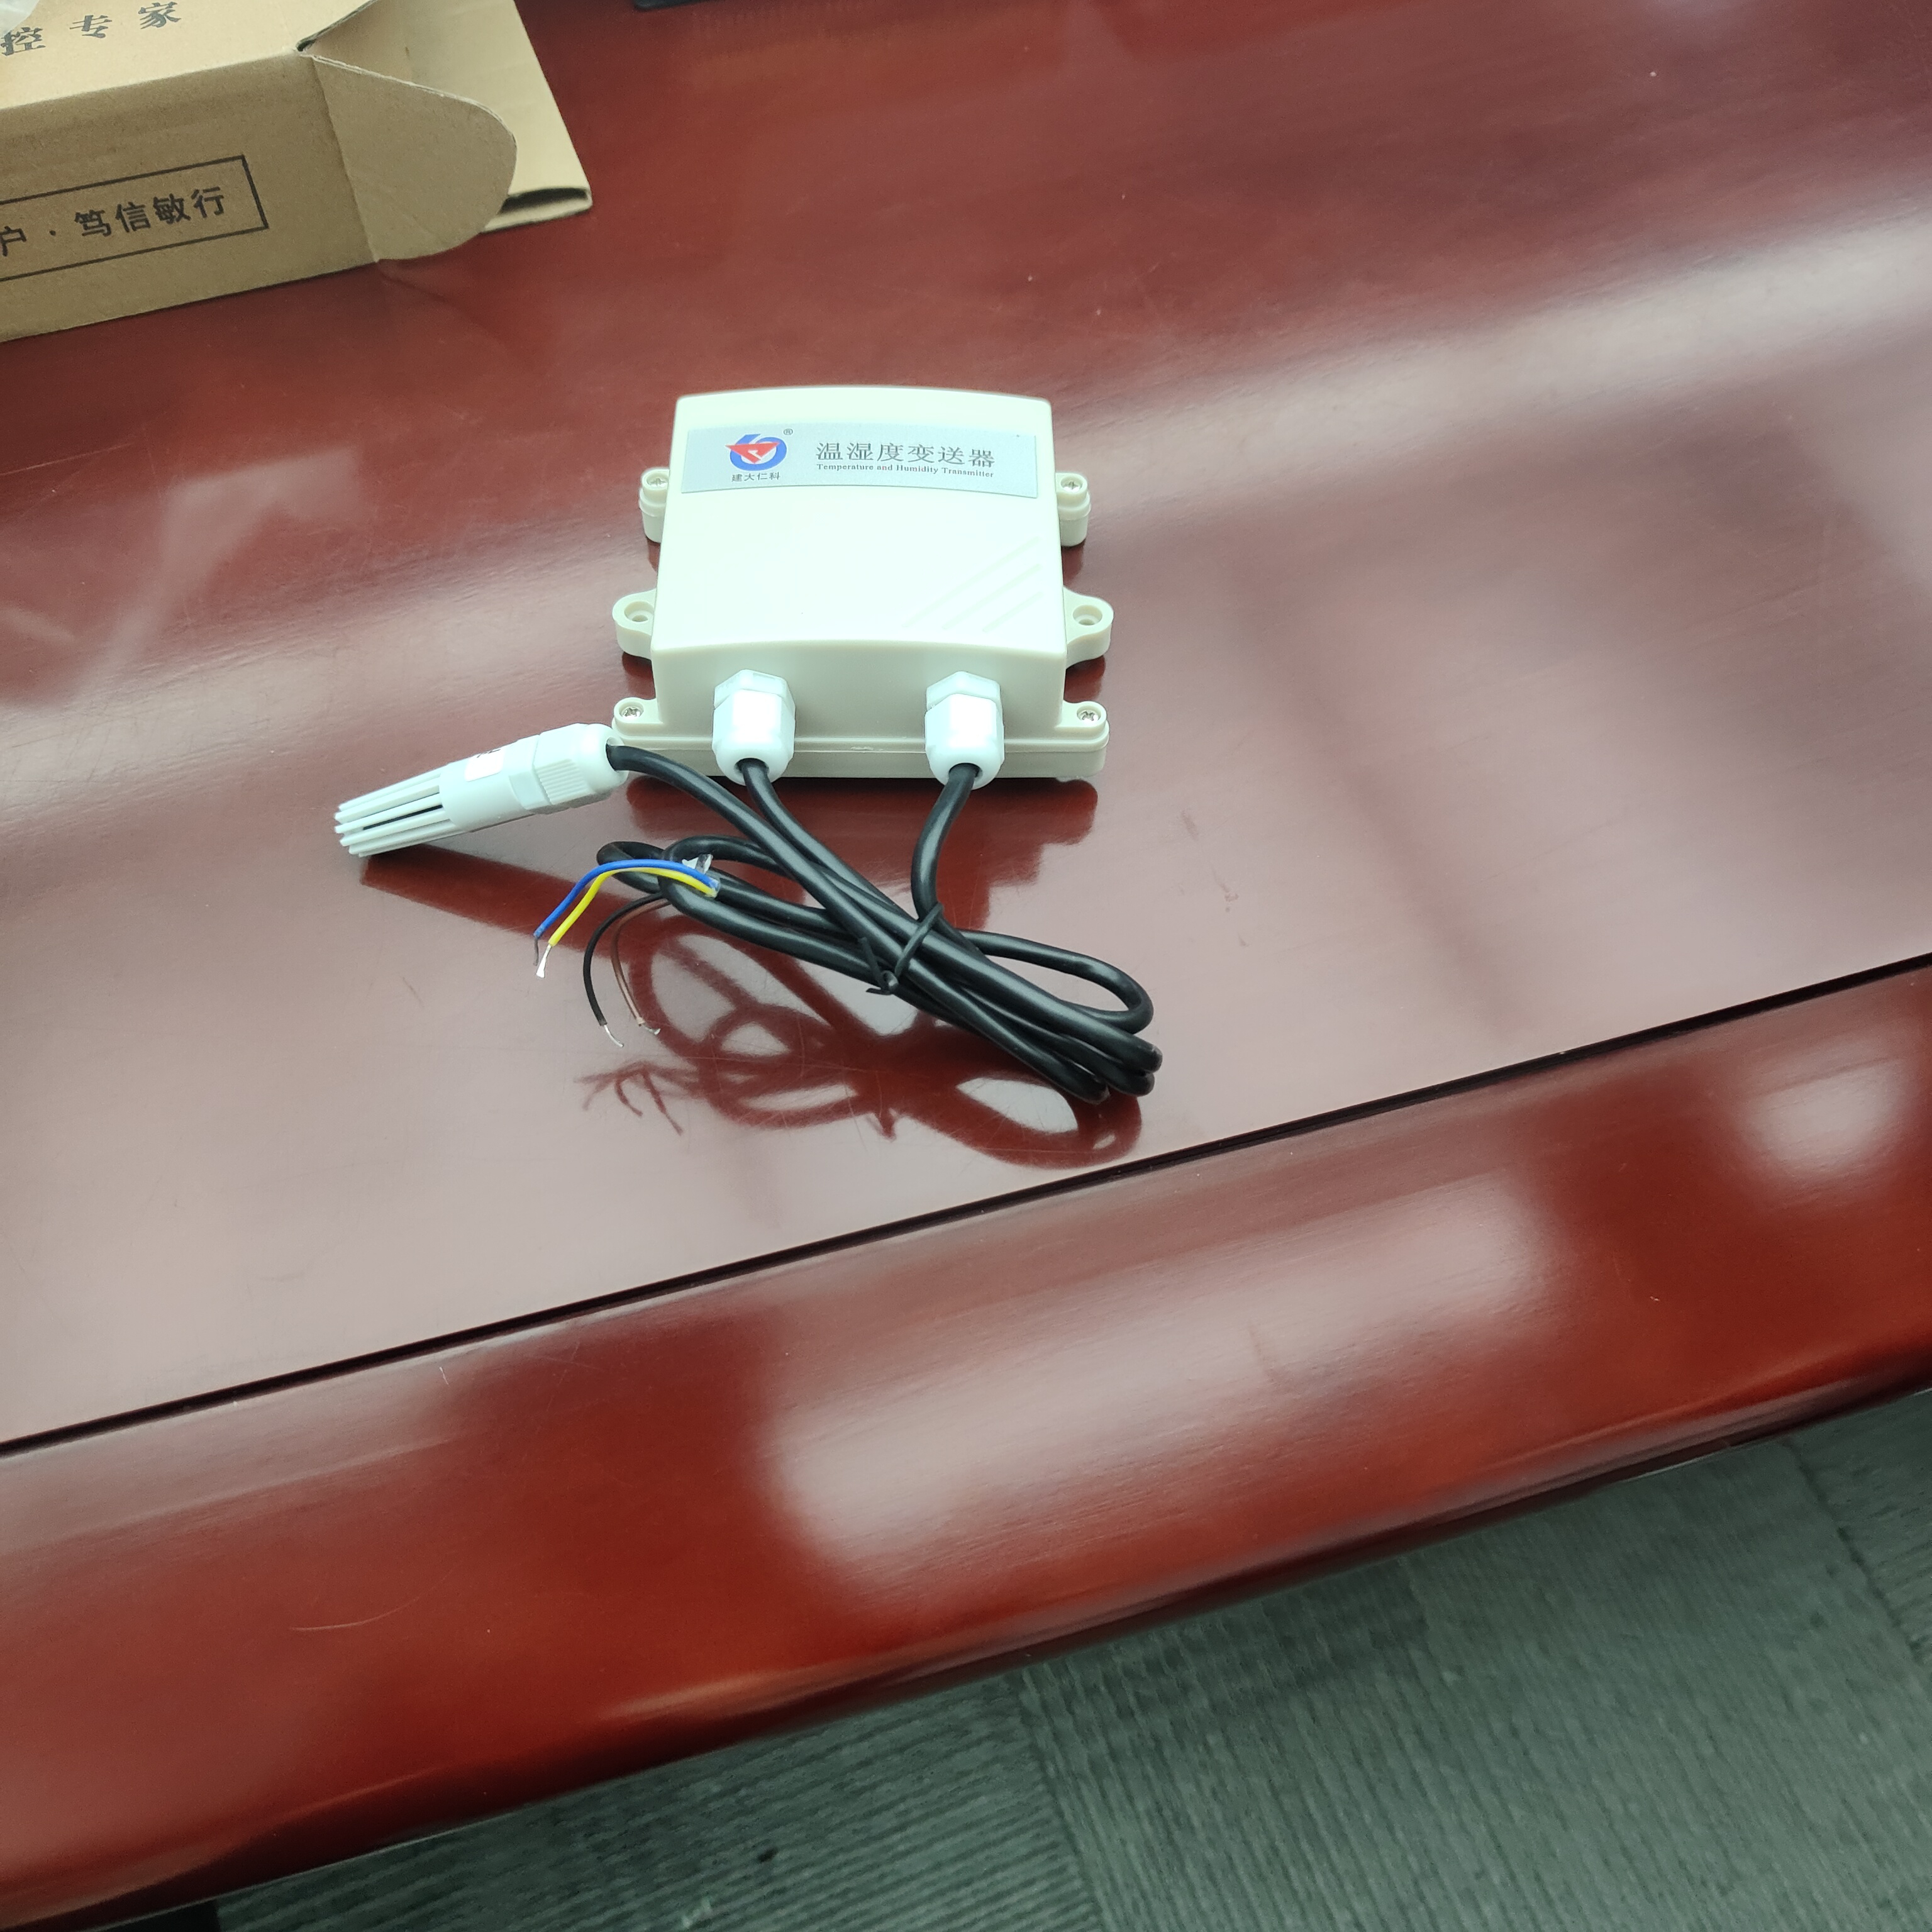wsdbsq: (610, 340, 1125, 830)
